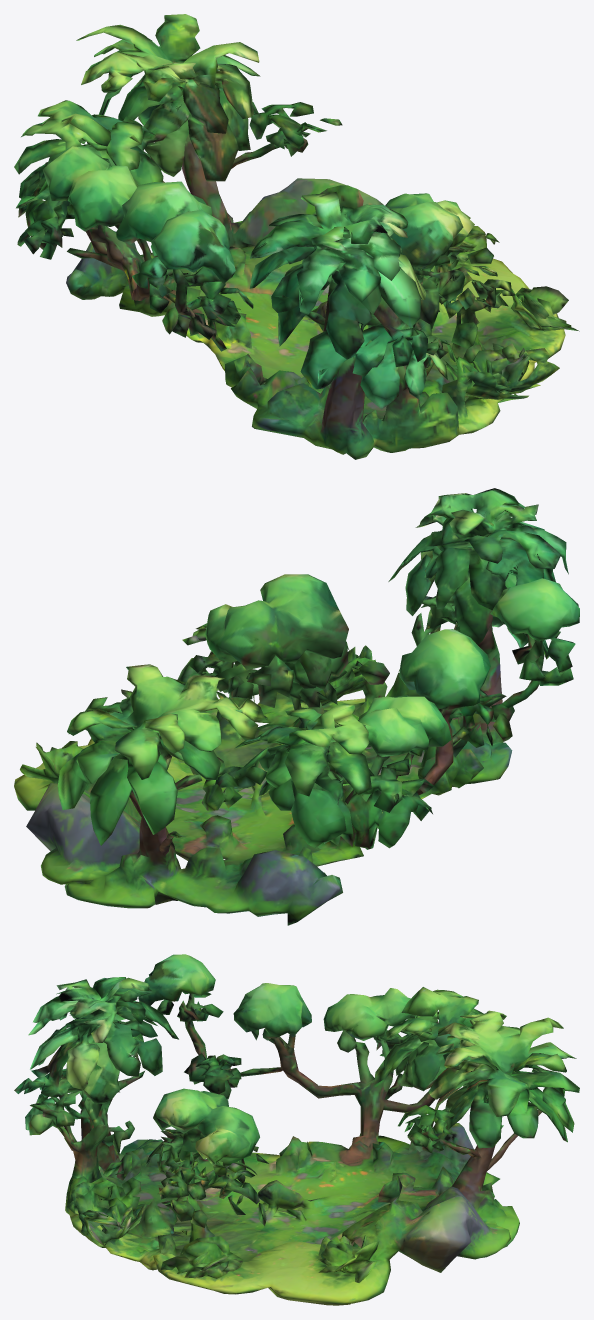
File: Plant_Jungle.fbx
3 views of the same model, one above another, from view 1: azimuth 30°, elevation 25°; view 2: azimuth 150°, elevation 25°; view 3: azimuth 270°, elevation 25° (orthographic). The views are drawn at different scales.
Visible parts, largest first — view 1: Mesh1_Mesh1.041; view 2: Mesh1_Mesh1.041; view 3: Mesh1_Mesh1.041.
Part boxes in pixels (<box>): Mesh1_Mesh1.041: <box>14,14,579,459</box>; Mesh1_Mesh1.041: <box>14,488,579,925</box>; Mesh1_Mesh1.041: <box>14,954,579,1305</box>.
Size of the model in its own units: 36.69 by 20 by 48.44.
1 material, 1 textured.
